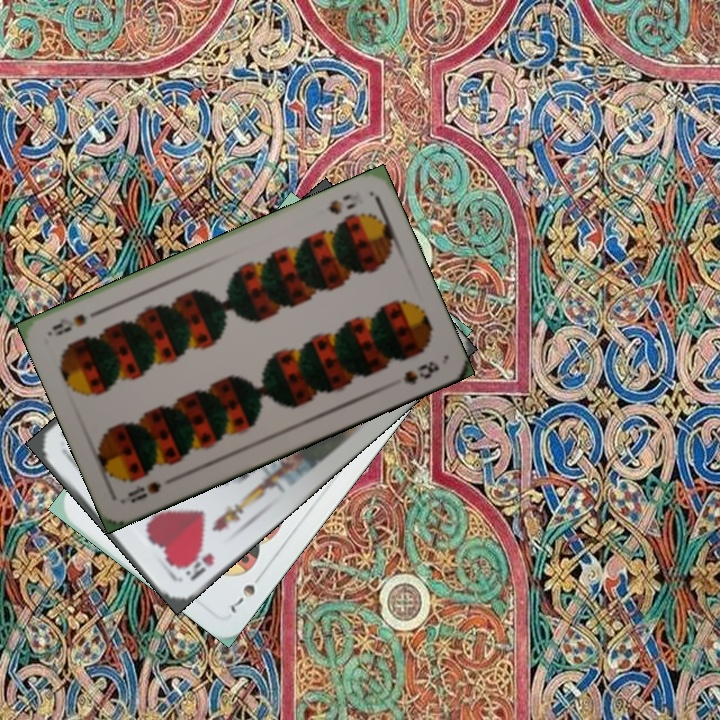HK: (174, 545, 217, 584)
S7: (225, 580, 258, 616)
S8: (124, 477, 164, 506), (324, 190, 359, 217)
